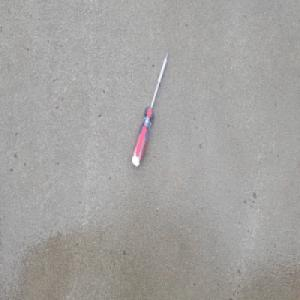Screwdriver: (130, 50, 170, 168)
